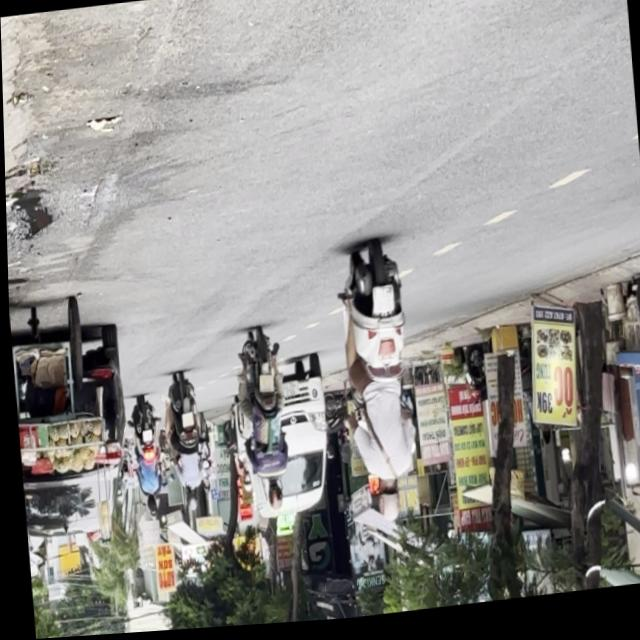helmet: (374, 484, 399, 529)
licenseplate: (329, 240, 423, 534)
nohelmet: (368, 288, 392, 319)
